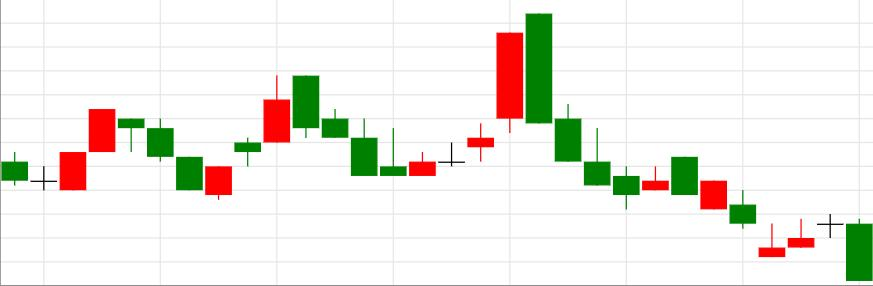bearish_engulfing_fall: (350, 12, 553, 177)
